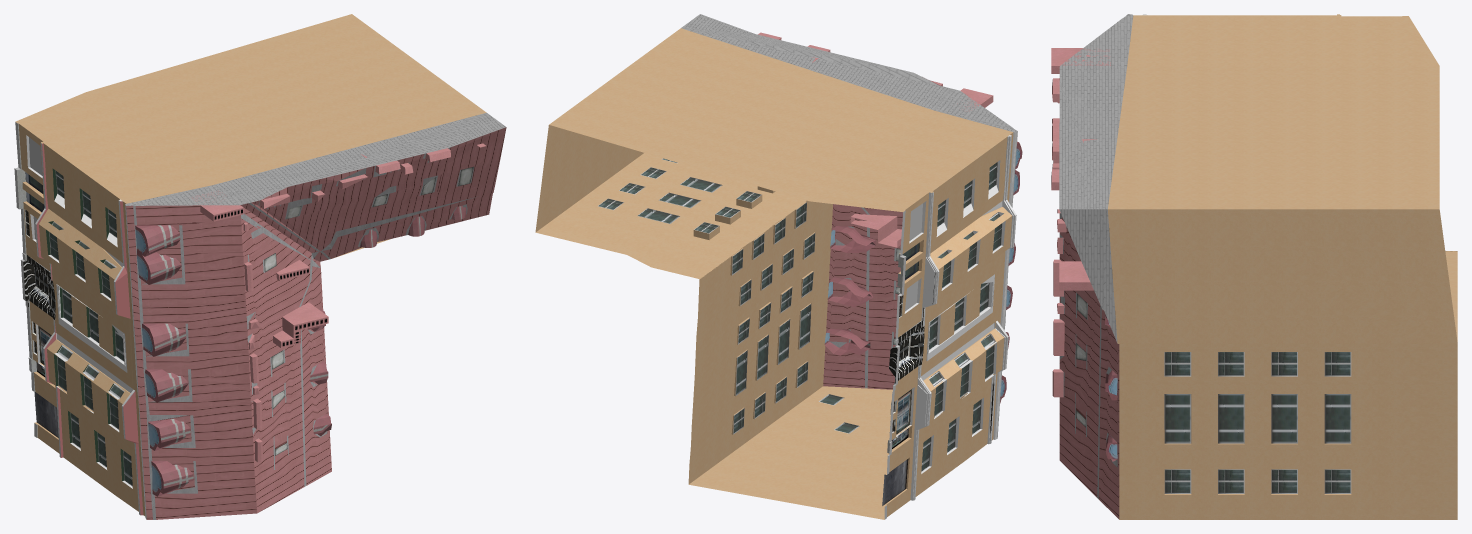
The model's file is Uus_22-1-origo.obj.
3 renders of one model, left to right at view 1: azimuth 30°, elevation 25°; view 2: azimuth 150°, elevation 25°; view 3: azimuth 270°, elevation 25°, orthographic. The views are drawn at different scales.
Visible parts, largest first — view 1: Uus_22_1; view 2: Uus_22_1; view 3: Uus_22_1.
Boxes of the visible parts, bbox=[...] form: Uus_22_1: bbox=[14, 14, 506, 519]; Uus_22_1: bbox=[535, 14, 1022, 519]; Uus_22_1: bbox=[1051, 14, 1457, 519].
Bounding box in the file's own units: 28.62 × 25 × 22.52.
